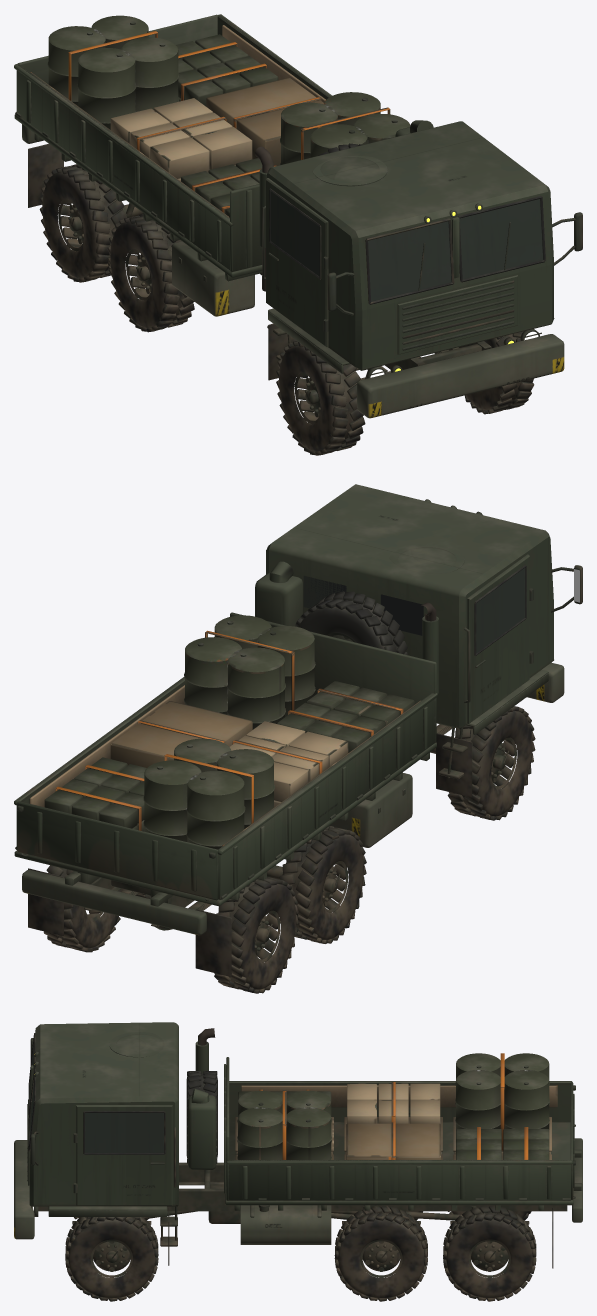
The model's file is m1083_fmtv.glb.
The picture shows the model from 3 angles, top to bottom: view 1: azimuth 30°, elevation 25°; view 2: azimuth 150°, elevation 25°; view 3: azimuth 270°, elevation 25°; orthographic projection. The views are drawn at different scales.
Parts seen in each view (by area): view 1: Cab_Shell, Cargo_Body_Mesh, Cargo_Pallet_6_Mesh, Cab_Glass, Bumper, Door_Right_Panel, Wheel_1_Right_Mesh, Cargo_Pallet_4_Mesh, Wheel_3_Right_Mesh, Wheel_2_Right_Mesh, Grille, Cargo_Pallet_1_Mesh (+14 smaller); view 2: Cab_Shell, Cargo_Body_Mesh, Cargo_Pallet_1_Mesh, Cargo_Pallet_6_Mesh, Tailgate_Panel, Door_Right_Panel, Wheel_2_Right_Mesh, Wheel_3_Right_Mesh, Wheel_1_Right_Mesh, Cargo_Pallet_3_Mesh, Cargo_Pallet_2_Mesh, Cargo_Pallet_5_Mesh (+15 smaller); view 3: Cargo_Body_Mesh, Cab_Shell, Door_Left_Panel, Cargo_Pallet_6_Mesh, Wheel_3_Left_Mesh, Wheel_2_Left_Mesh, Wheel_1_Left_Mesh, Cargo_Pallet_1_Mesh, Frame_And_Running_Gear, Cargo_Pallet_4_Mesh, Fuel_Tank, Cargo_Pallet_3_Mesh (+11 smaller).
Part boxes in pixels (left/top/right/bottom): Cab_Shell: left=267, top=121, right=554, bottom=370; Cargo_Body_Mesh: left=14, top=14, right=332, bottom=281; Cargo_Pallet_6_Mesh: left=47, top=15, right=179, bottom=129; Cab_Glass: left=368, top=199, right=543, bottom=301; Bumper: left=357, top=334, right=564, bottom=418; Door_Right_Panel: left=266, top=178, right=328, bottom=347; Wheel_1_Right_Mesh: left=276, top=341, right=365, bottom=455; Cargo_Pallet_4_Mesh: left=110, top=98, right=252, bottom=181; Wheel_3_Right_Mesh: left=39, top=164, right=127, bottom=282; Wheel_2_Right_Mesh: left=107, top=214, right=194, bottom=332; Grille: left=397, top=222, right=517, bottom=354; Cargo_Pallet_1_Mesh: left=280, top=92, right=410, bottom=164; Cab_Shell: left=267, top=484, right=553, bottom=728; Cargo_Body_Mesh: left=14, top=612, right=437, bottom=906; Cargo_Pallet_1_Mesh: left=184, top=615, right=315, bottom=729; Cargo_Pallet_6_Mesh: left=143, top=738, right=274, bottom=849; Tailgate_Panel: left=17, top=801, right=218, bottom=900; Door_Right_Panel: left=467, top=554, right=533, bottom=723; Wheel_2_Right_Mesh: left=279, top=826, right=366, bottom=943; Wheel_3_Right_Mesh: left=214, top=877, right=298, bottom=993; Wheel_1_Right_Mesh: left=447, top=706, right=535, bottom=820; Cargo_Pallet_3_Mesh: left=110, top=701, right=252, bottom=767; Cargo_Pallet_2_Mesh: left=276, top=681, right=414, bottom=752; Cargo_Pallet_5_Mesh: left=44, top=757, right=146, bottom=831; Cargo_Body_Mesh: left=224, top=1057, right=575, bottom=1210; Cab_Shell: left=29, top=1022, right=178, bottom=1206; Door_Left_Panel: left=73, top=1105, right=172, bottom=1205; Cargo_Pallet_6_Mesh: left=453, top=1053, right=551, bottom=1154; Wheel_3_Left_Mesh: left=443, top=1205, right=536, bottom=1301; Wheel_2_Left_Mesh: left=334, top=1205, right=427, bottom=1301; Wheel_1_Left_Mesh: left=65, top=1217, right=158, bottom=1301; Cargo_Pallet_1_Mesh: left=235, top=1090, right=333, bottom=1159; Frame_And_Running_Gear: left=38, top=1162, right=567, bottom=1224; Cargo_Pallet_4_Mesh: left=344, top=1082, right=442, bottom=1154; Fuel_Tank: left=240, top=1205, right=331, bottom=1244; Cargo_Pallet_3_Mesh: left=344, top=1122, right=442, bottom=1159.
Size of the model in its own units: 2.97 by 2.85 by 7.21.
10 materials, 4 textured.
